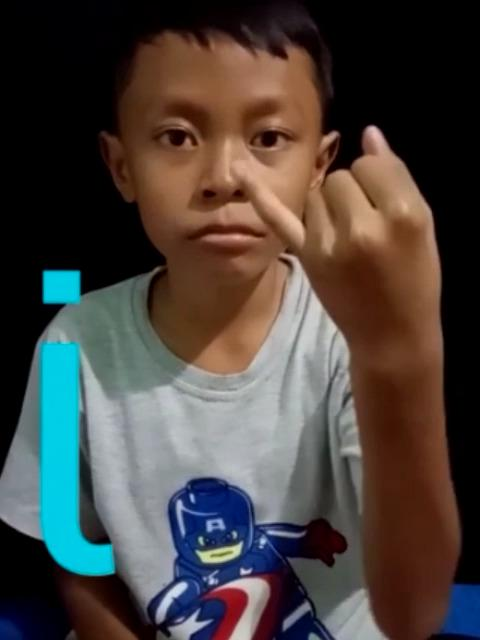J: (232, 124, 456, 346)
